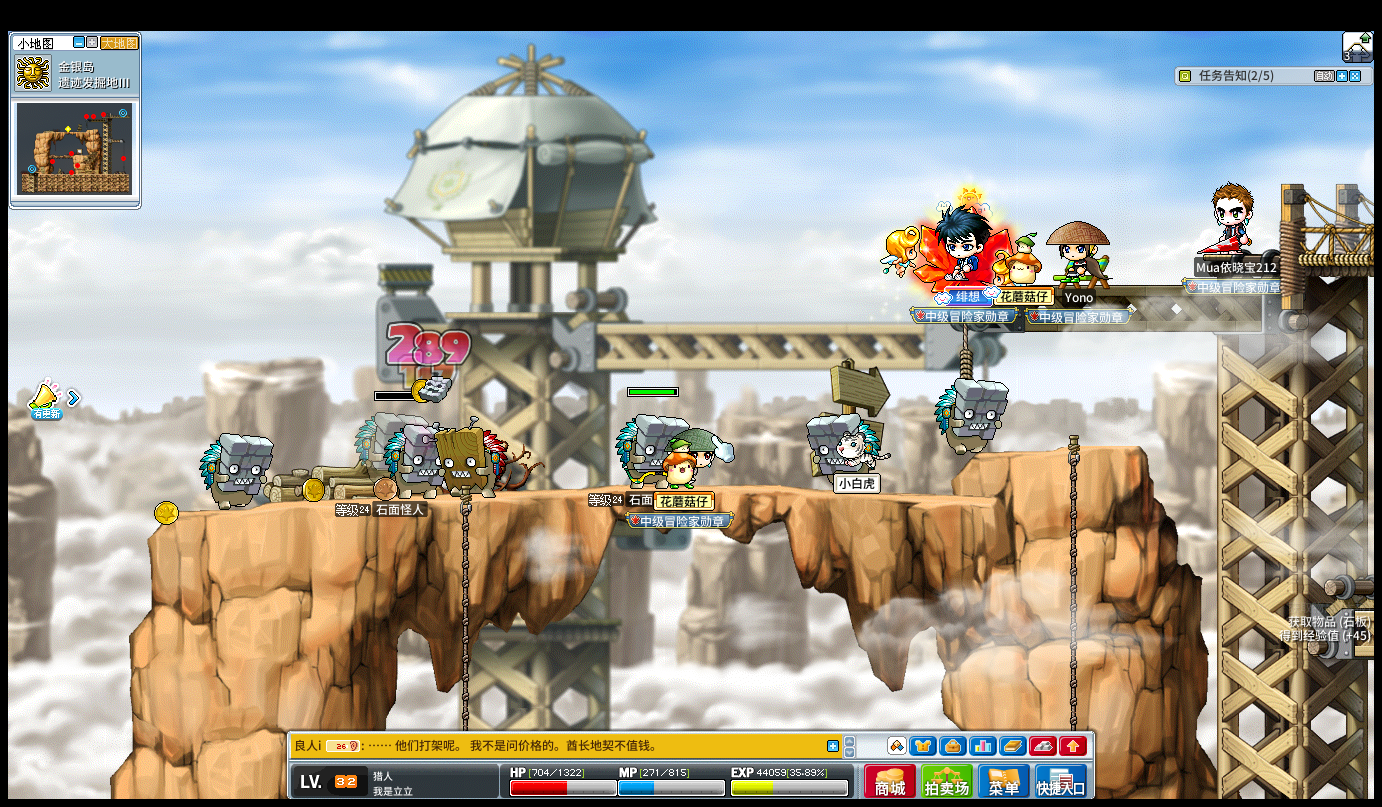floor: (184, 480, 1035, 508), (978, 443, 1145, 458)
monster: (934, 377, 1010, 460), (197, 432, 273, 512), (806, 412, 880, 494), (430, 419, 505, 498), (613, 413, 673, 486), (384, 423, 437, 497), (352, 413, 391, 491)
rope: (1065, 431, 1080, 723), (458, 486, 472, 681)
